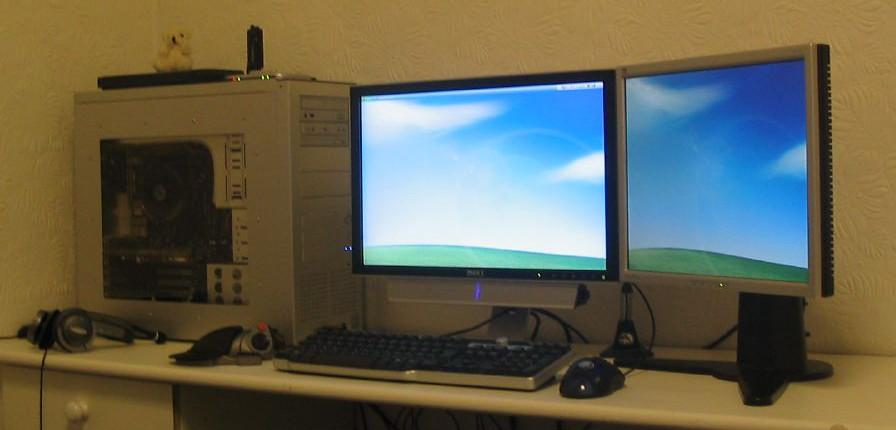computer: (73, 78, 362, 348), (615, 42, 836, 386), (350, 68, 620, 344)
